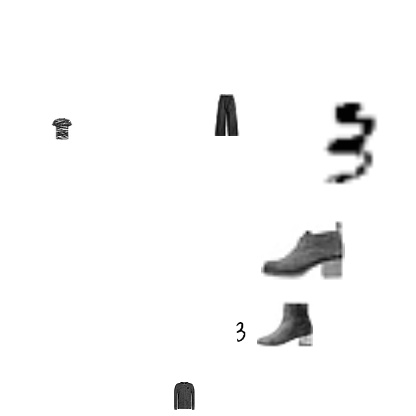3: (292, 79, 404, 191), (227, 317, 255, 345)
Ankle_boot: (261, 207, 345, 291), (257, 296, 313, 352)
Pullover: (170, 382, 198, 410)
T-shirt/top: (51, 118, 73, 140)
Trouser: (206, 94, 248, 136)
